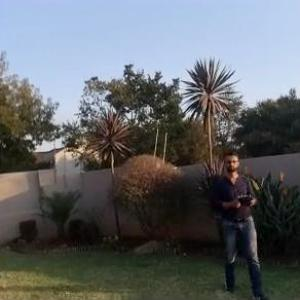follow: (210, 143, 273, 299)
